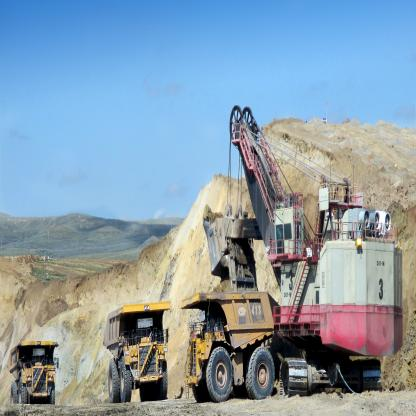dump_truck: (178, 287, 276, 403), (100, 299, 172, 403), (6, 338, 58, 404)
excavator: (206, 96, 402, 402)
